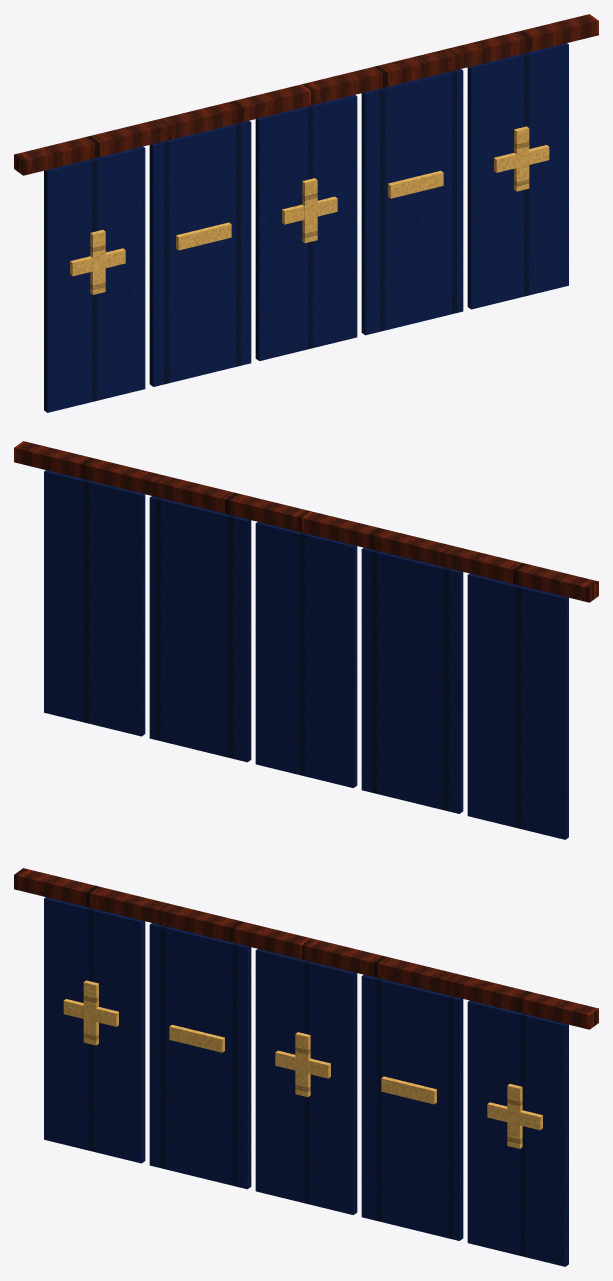
File: indigo_noren.glb
3 renders of one model, top to bottom at view 1: azimuth 30°, elevation 25°; view 2: azimuth 150°, elevation 25°; view 3: azimuth 330°, elevation 25°, orthographic.
Parts seen in each view (by area): view 1: indigo_noren; view 2: indigo_noren; view 3: indigo_noren.
Boxes of the visible parts, x1,y1,x2,y2 form: indigo_noren: [14, 14, 598, 412]; indigo_noren: [14, 441, 598, 839]; indigo_noren: [14, 868, 598, 1266].
Bounding box in the file's own units: 2.5 × 1.08 × 0.071.
3 materials, 3 textured.
